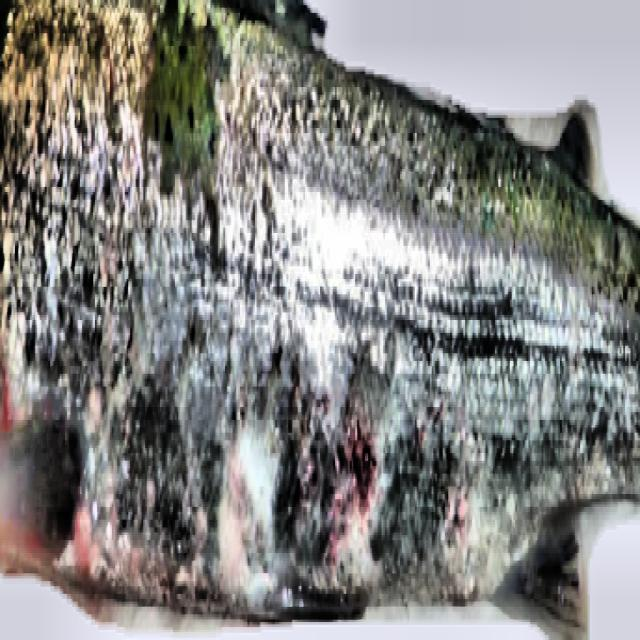mild_red: (0, 0, 639, 599)
